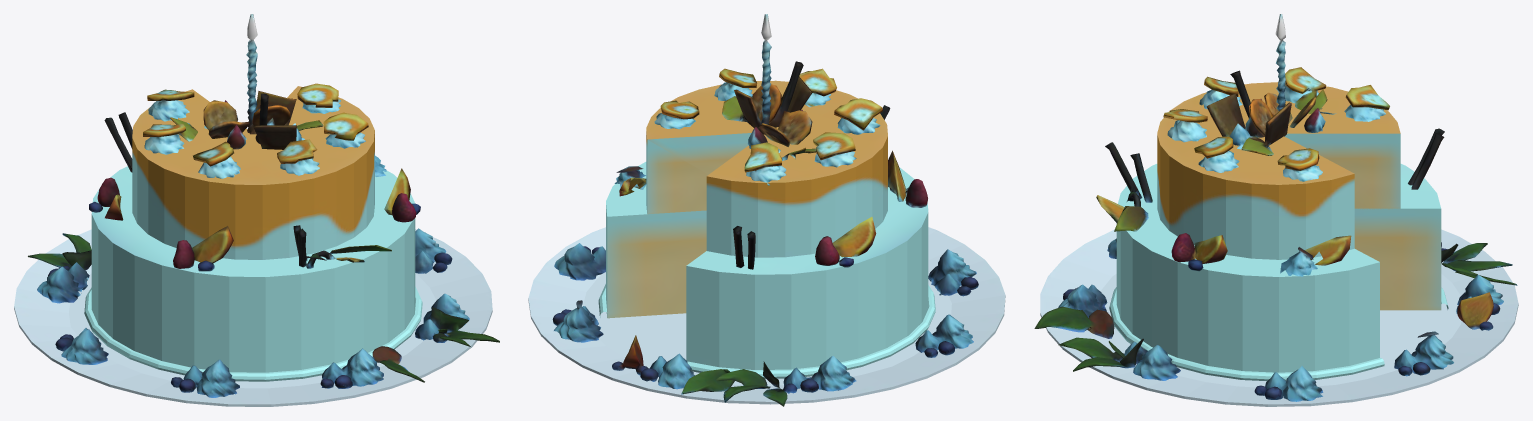
File: denia_cake_1.obj
The picture shows the model from 3 angles, left to right: view 1: azimuth 30°, elevation 25°; view 2: azimuth 150°, elevation 25°; view 3: azimuth 270°, elevation 25°; orthographic projection.
Parts seen in each view (by area): view 1: cake; view 2: cake; view 3: cake.
Boxes of the visible parts, <box> form: cake: <box>14,14,499,406</box>; cake: <box>528,14,1005,406</box>; cake: <box>1034,14,1518,406</box>.
Bounding box in the file's own units: 0.959 × 0.6594 × 0.9697.
